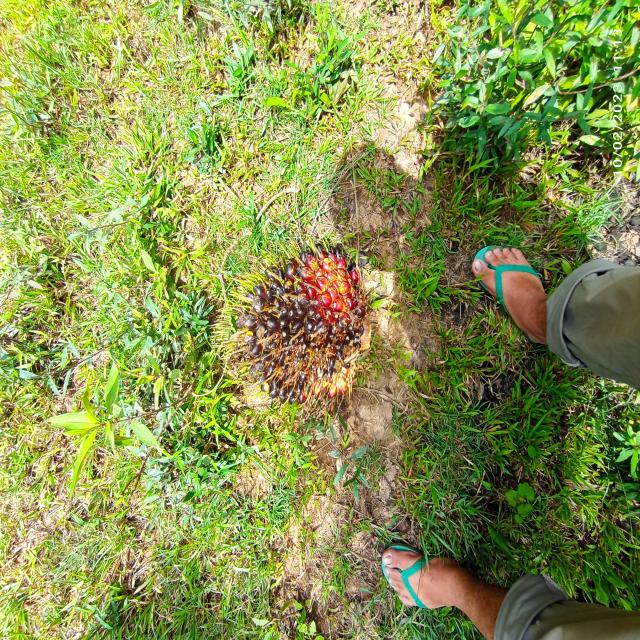fraksi 00: (219, 232, 393, 454)
